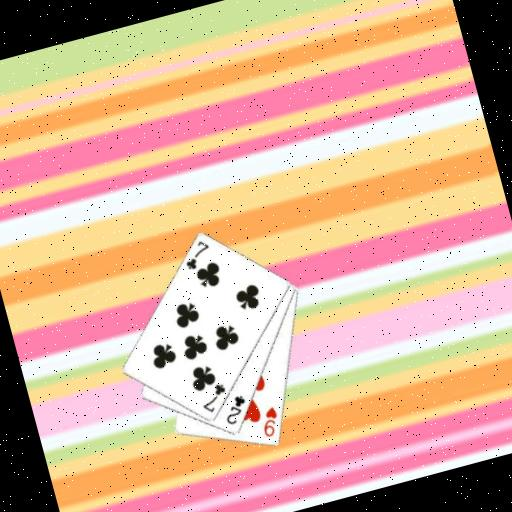2C: (217, 390, 252, 428)
7C: (194, 379, 232, 417), (177, 235, 215, 273)
9H: (254, 403, 284, 440)
